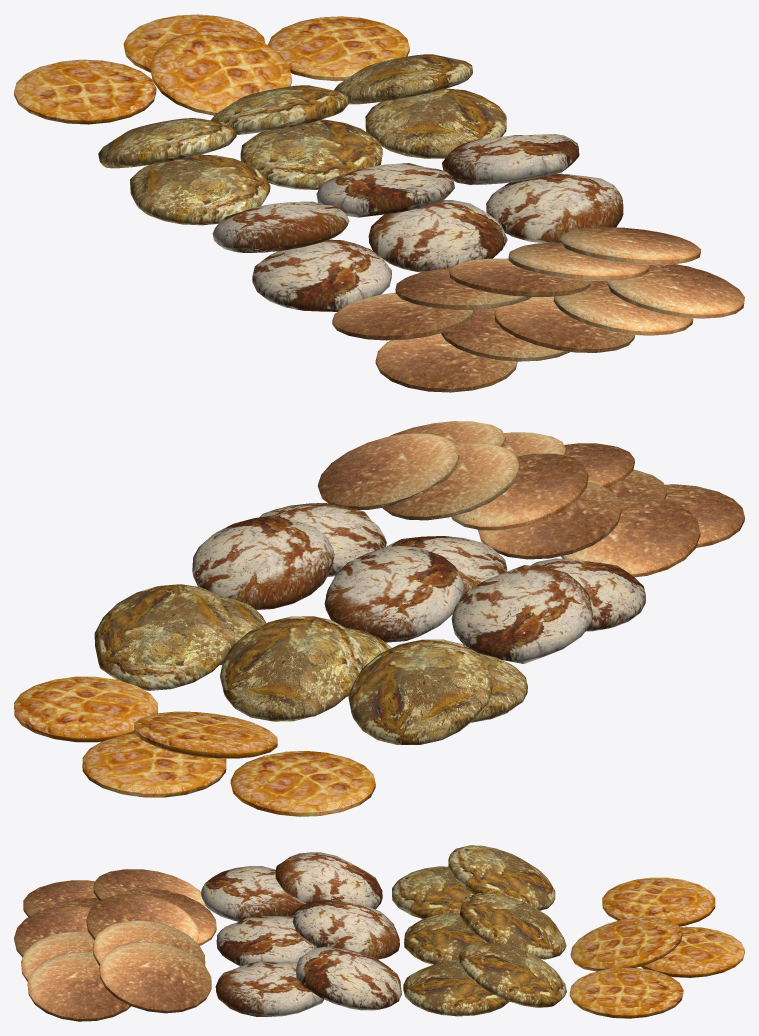
Rendered from bread_booth02_LOD01.fbx.
3 views of the same model, one above another, from view 1: azimuth 30°, elevation 25°; view 2: azimuth 150°, elevation 25°; view 3: azimuth 270°, elevation 25° (orthographic). The views are drawn at different scales.
Parts seen in each view (by area): view 1: Mesh Object; view 2: Mesh Object; view 3: Mesh Object.
Boxes of the visible parts, x1,y1,x2,y2 form: Mesh Object: (14, 14, 744, 392); Mesh Object: (14, 421, 744, 816); Mesh Object: (14, 845, 744, 1021).
Bounding box in the file's own units: 0.8743 × 0.1412 × 1.85.
